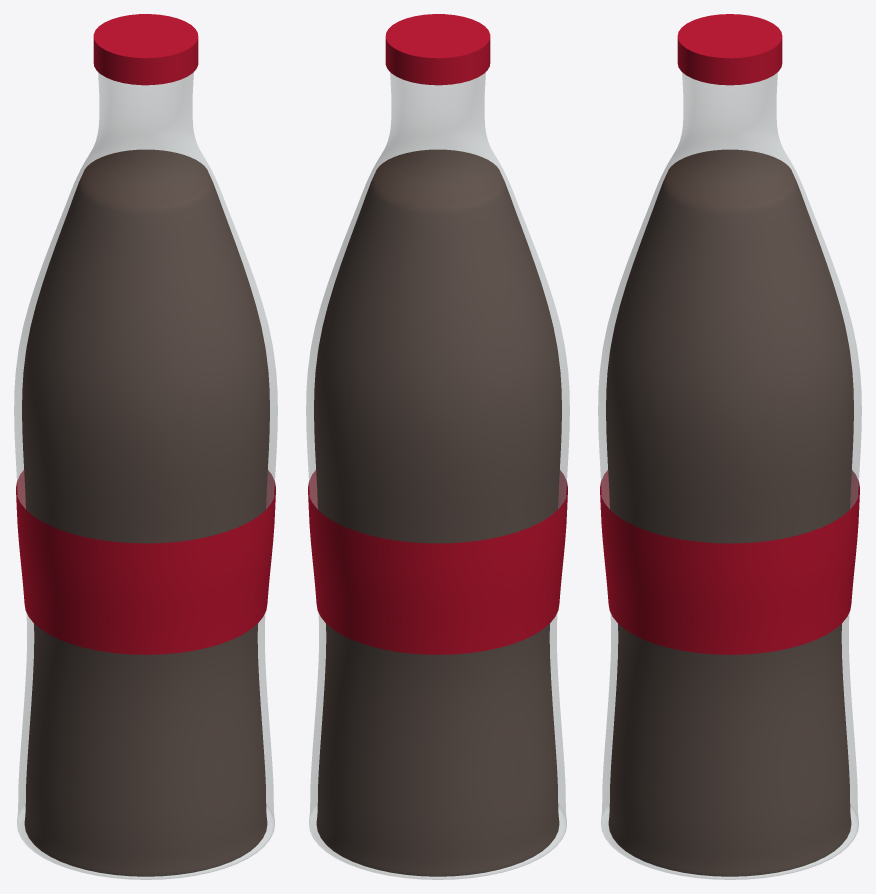
File: coca-400.glb
The picture shows the model from 3 angles, left to right: view 1: azimuth 30°, elevation 25°; view 2: azimuth 150°, elevation 25°; view 3: azimuth 270°, elevation 25°; orthographic projection.
Parts seen in each view (by area): view 1: vidrio, liquido, etiqueta, tapa; view 2: vidrio, liquido, etiqueta, tapa; view 3: vidrio, liquido, etiqueta, tapa.
Part boxes in pixels (x1=…): vidrio: x1=14, y1=72, x2=277, y2=879; liquido: x1=22, y1=149, x2=269, y2=876; etiqueta: x1=16, y1=470, x2=275, y2=654; tapa: x1=93, y1=14, x2=198, y2=85; vidrio: x1=306, y1=72, x2=569, y2=879; liquido: x1=314, y1=149, x2=561, y2=876; etiqueta: x1=308, y1=470, x2=567, y2=654; tapa: x1=385, y1=14, x2=490, y2=85; vidrio: x1=598, y1=72, x2=861, y2=879; liquido: x1=606, y1=149, x2=853, y2=876; etiqueta: x1=600, y1=470, x2=859, y2=654; tapa: x1=677, y1=14, x2=782, y2=85.
Bounding box in the file's own units: 0.0681 × 0.2267 × 0.0681.
